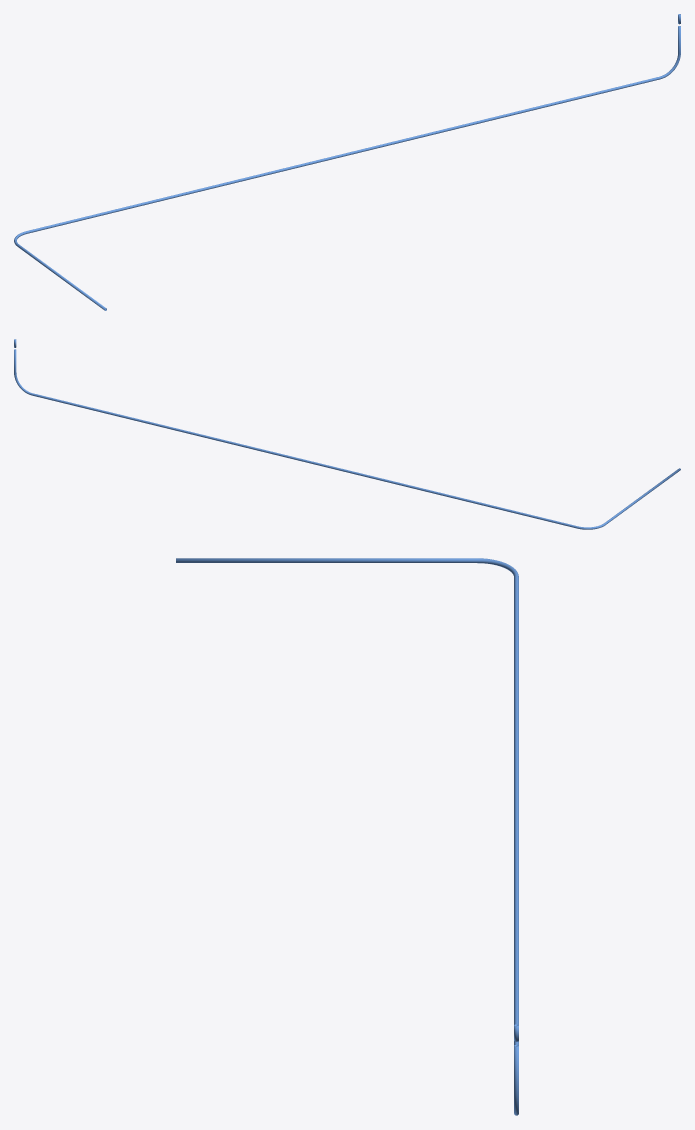
Rendered from slab_pipes_supply__water-city_filter_and_plumbing-pex+pex_branch_and_softener-yes.glb.
3 renders of one model, top to bottom at view 1: azimuth 30°, elevation 25°; view 2: azimuth 150°, elevation 25°; view 3: azimuth 270°, elevation 25°, orthographic. The views are drawn at different scales.
Parts seen in each view (by area): view 1: pipe_supply_house_entry__pex.901; view 2: pipe_supply_house_entry__pex.901; view 3: pipe_supply_house_entry__pex.901.
Boxes of the visible parts, x1=… form: pipe_supply_house_entry__pex.901: x1=14, y1=14, x2=680, y2=310; pipe_supply_house_entry__pex.901: x1=14, y1=339, x2=680, y2=529; pipe_supply_house_entry__pex.901: x1=176, y1=558, x2=518, y2=1115.
Bounding box in the file's own units: 7.77 × 0.6588 × 1.98.
